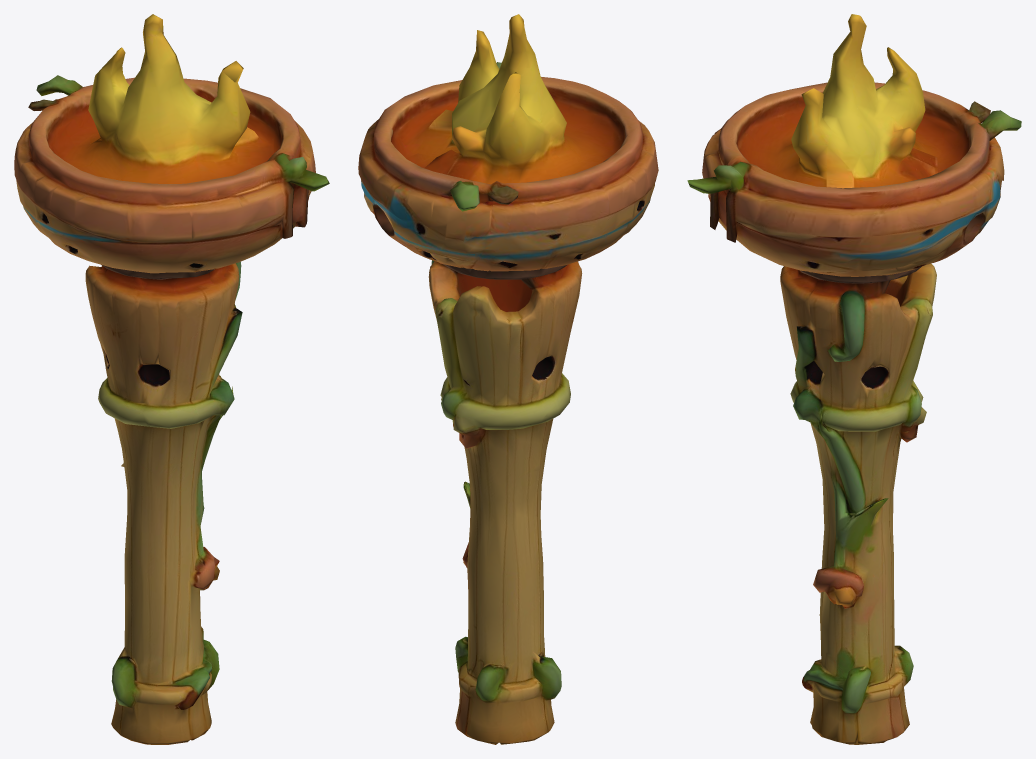
Rendered from lib-torch.glb.
The picture shows the model from 3 angles, left to right: view 1: azimuth 30°, elevation 25°; view 2: azimuth 150°, elevation 25°; view 3: azimuth 270°, elevation 25°; orthographic projection.
Parts seen in each view (by area): view 1: tripo_node_685b8d07-1835-4bd6-b390-56bd100429f9; view 2: tripo_node_685b8d07-1835-4bd6-b390-56bd100429f9; view 3: tripo_node_685b8d07-1835-4bd6-b390-56bd100429f9.
Part boxes in pixels (x1,y1,x2,y2): tripo_node_685b8d07-1835-4bd6-b390-56bd100429f9: (14, 14, 329, 744); tripo_node_685b8d07-1835-4bd6-b390-56bd100429f9: (358, 14, 658, 744); tripo_node_685b8d07-1835-4bd6-b390-56bd100429f9: (687, 14, 1021, 744).
Size of the model in its own units: 0.3828 by 1 by 0.4285.
1 material, 1 textured.
